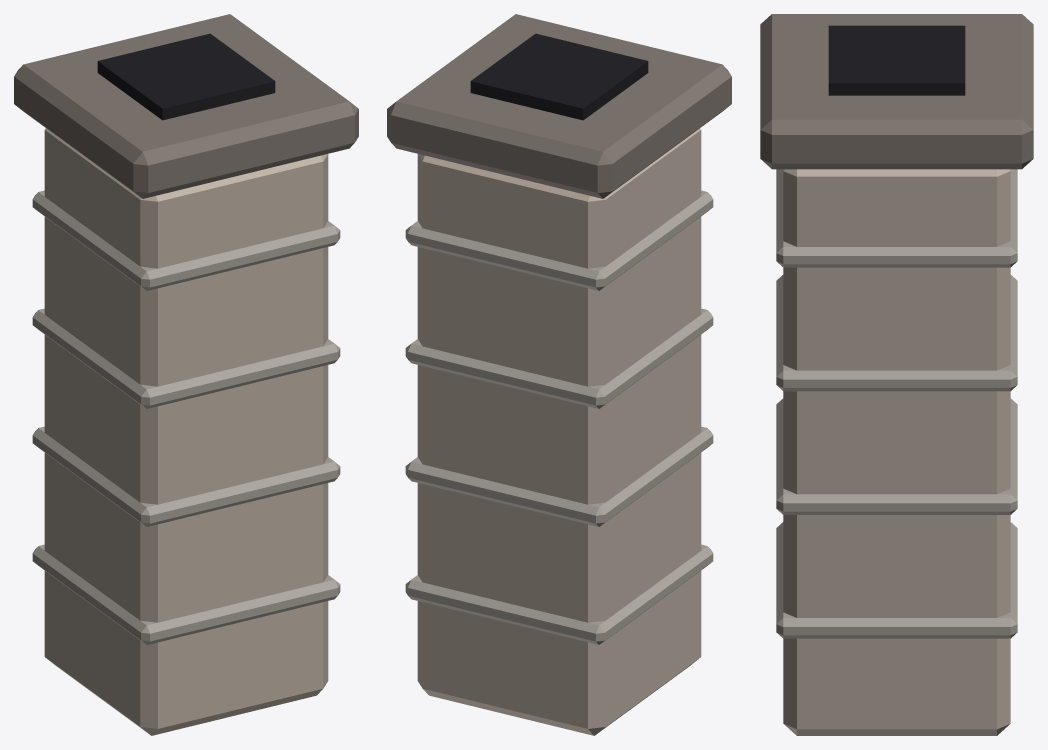
The model's file is chimney.glb.
The picture shows the model from 3 angles, left to right: view 1: azimuth 30°, elevation 25°; view 2: azimuth 150°, elevation 25°; view 3: azimuth 270°, elevation 25°; orthographic projection. The views are drawn at different scales.
Visible parts, largest first — view 1: chimney; view 2: chimney; view 3: chimney.
Boxes of the visible parts, bbox=[...] form: chimney: bbox=[14, 14, 358, 735]; chimney: bbox=[387, 14, 731, 735]; chimney: bbox=[760, 14, 1033, 735].
Size of the model in its own units: 0.6 by 1.55 by 0.6.
